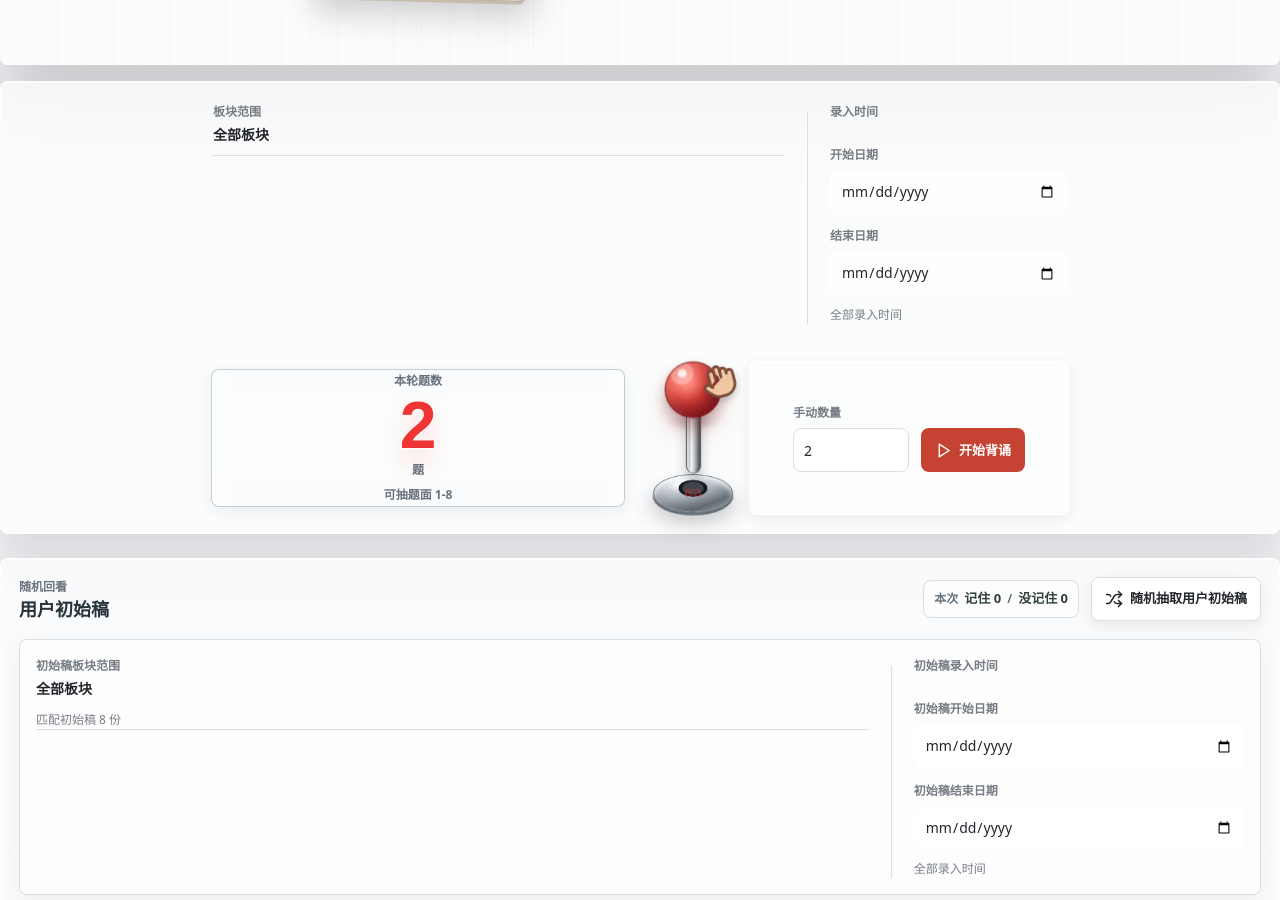
Test case: 不会标注背诵页 › 点击不会后揭示答案、更新次数并停留当前题，再手动进入下一张共享次数
(page scrolled)
Click the button "开始背诵": click(973, 450) 921,428 -> 1025,472
(page scrolled)
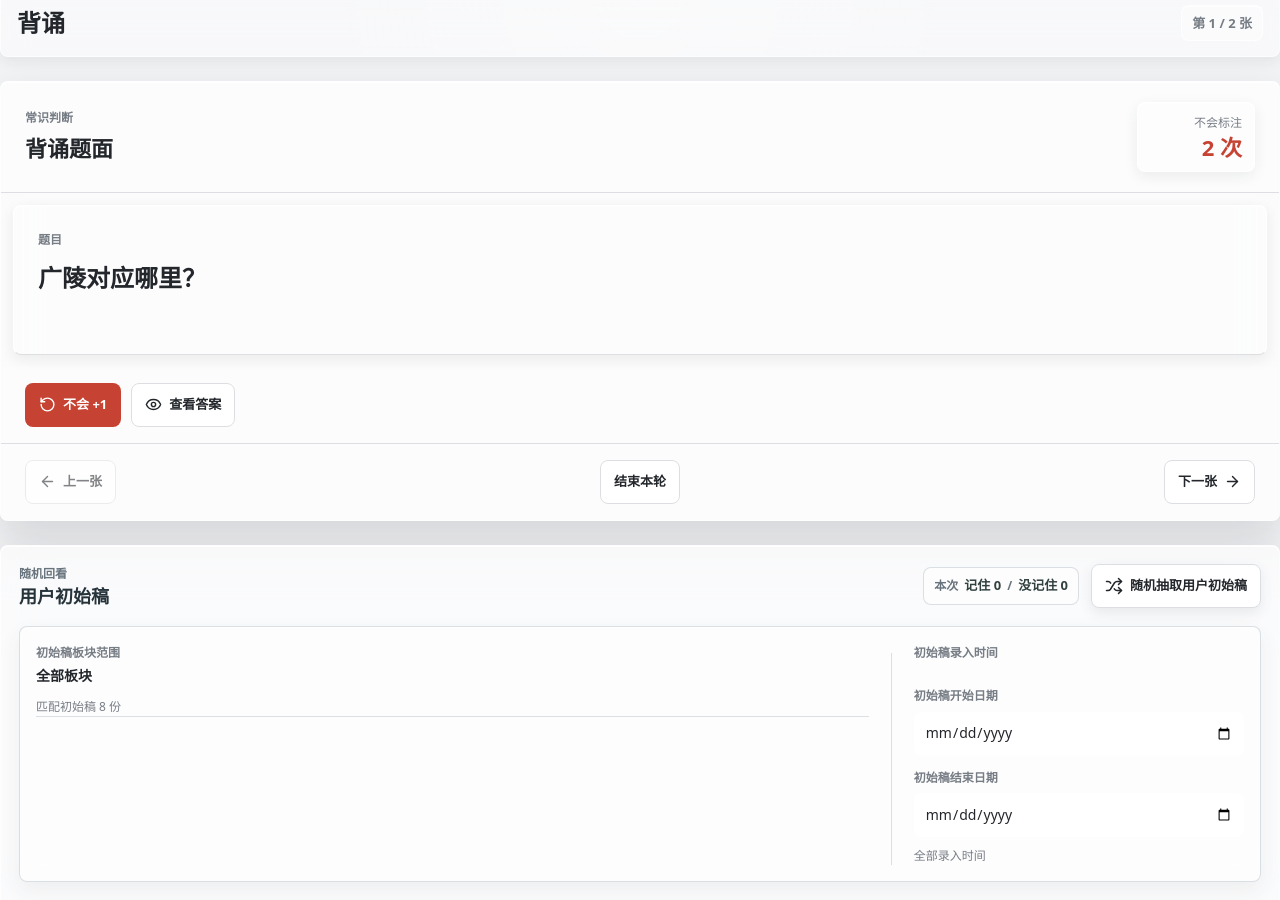
Check: the text "扬州" is not shown
Check: the text "广陵对应哪里？" is shown, box 38,261 -> 206,294
Check: the text "2 次" is shown, box 1202,134 -> 1242,161
Click the button "不会 +1": click(73, 405) 25,383 -> 121,427
(page scrolled)
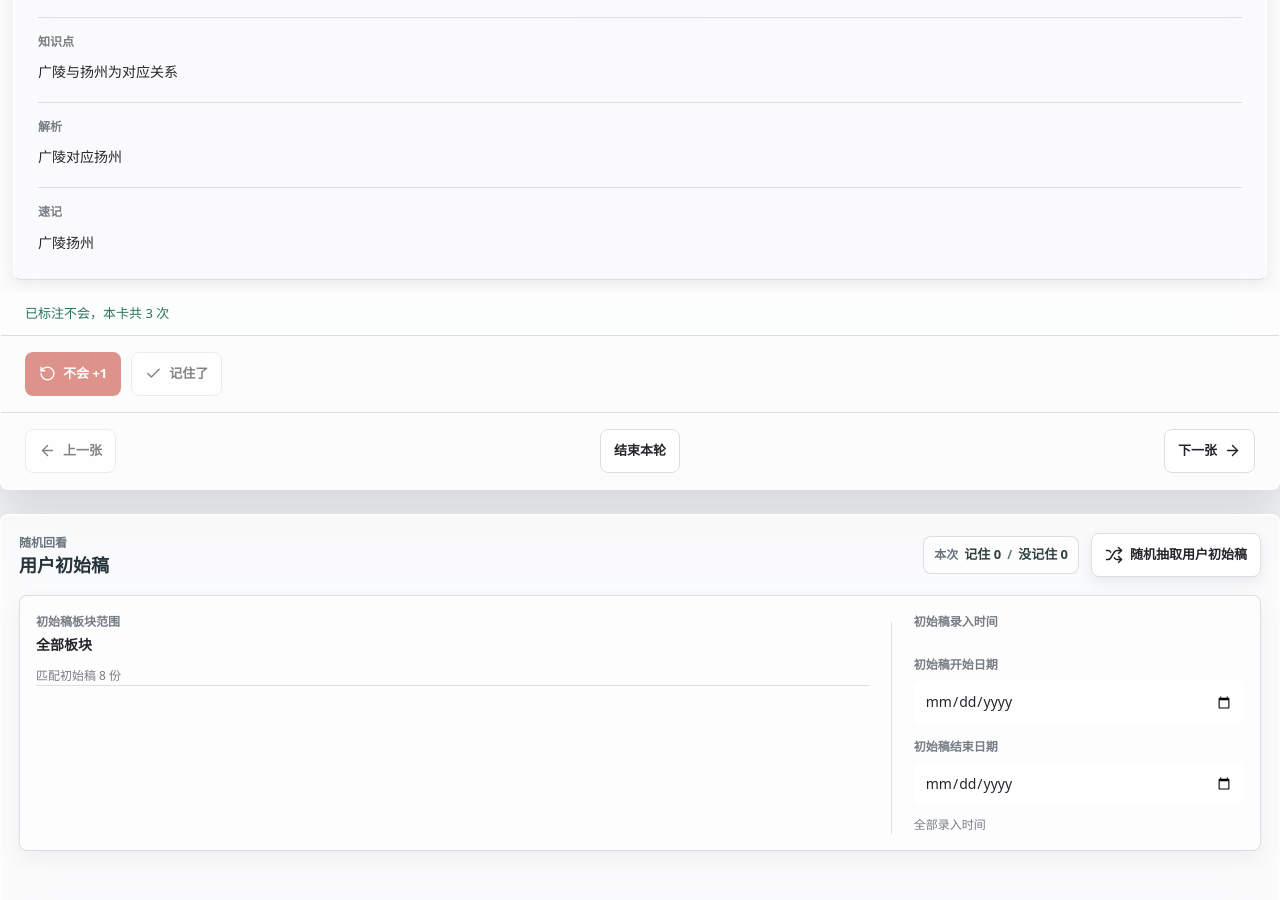
Check: the text "已标注不会，本卡共 3 次" is shown, box 1,292 -> 1279,336
Check: the text "广陵与扬州为对应关系" is shown, box 38,62 -> 178,81
Check: the text "广陵对应扬州" is shown, box 38,147 -> 122,166
Click the button "下一张": click(1210, 451) 1164,429 -> 1255,473
(page scrolled)
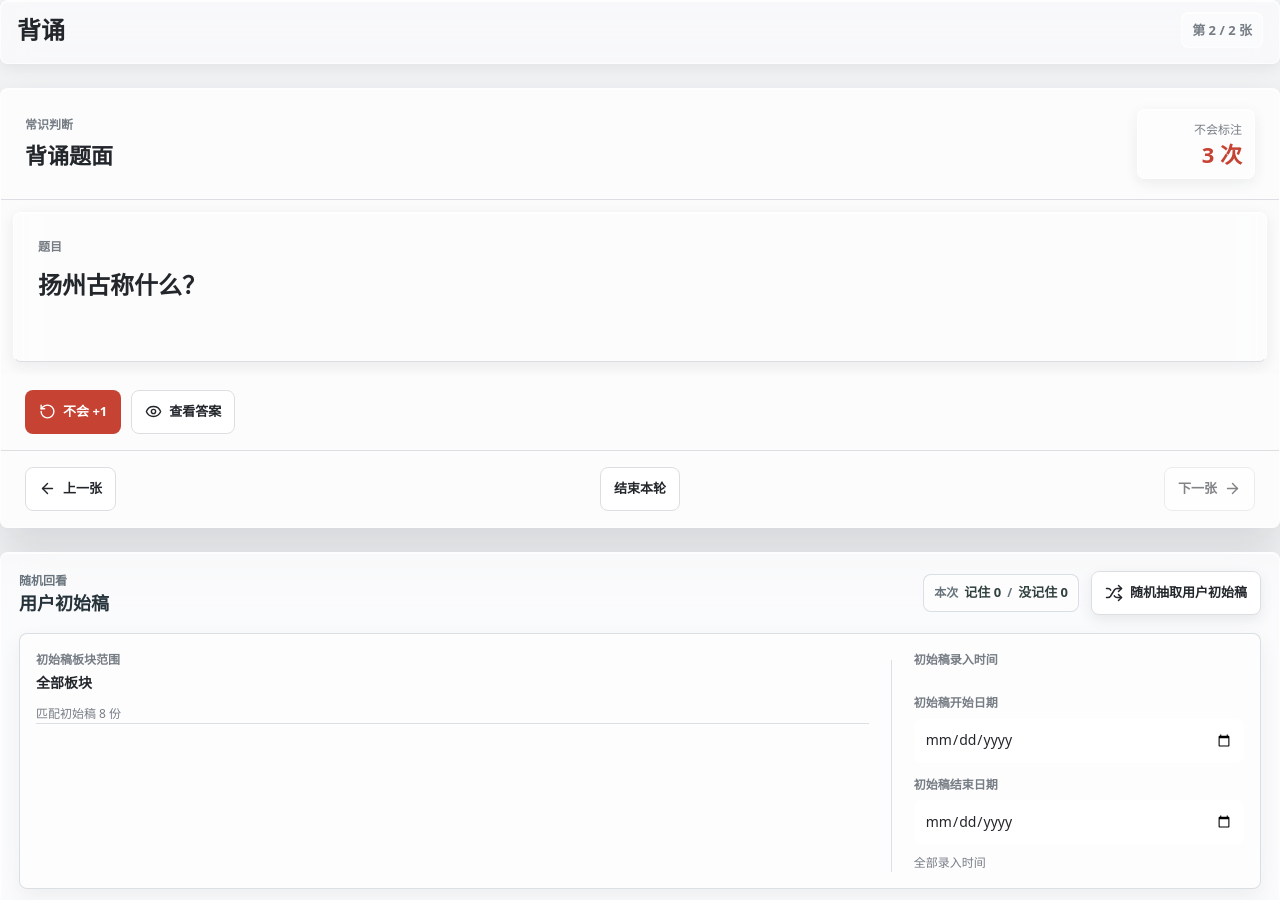
Check: the text "3 次" is shown, box 1202,141 -> 1242,168
Check: the text "扬州古称什么？" is shown, box 38,268 -> 206,301
